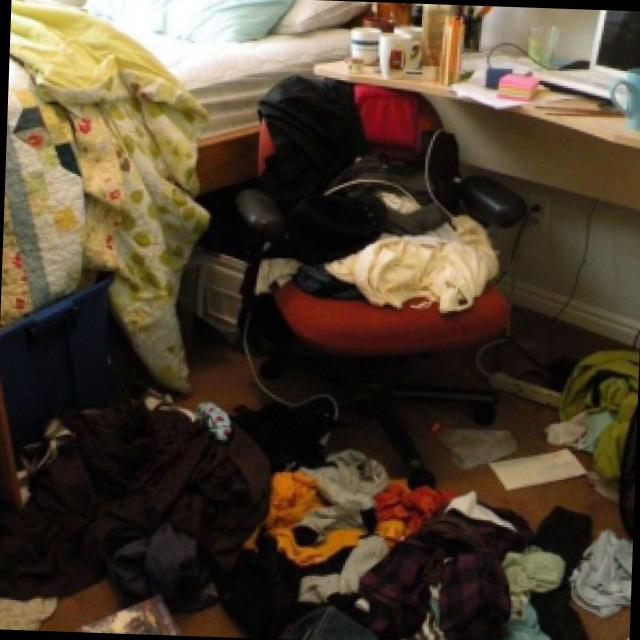mess: (0, 331, 639, 640), (18, 0, 337, 206), (236, 160, 528, 338), (345, 1, 640, 176)
